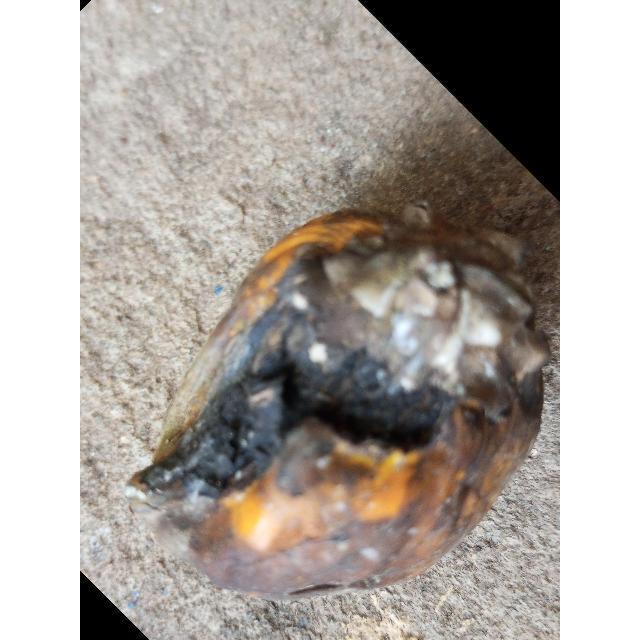damaged: (125, 203, 549, 600)
